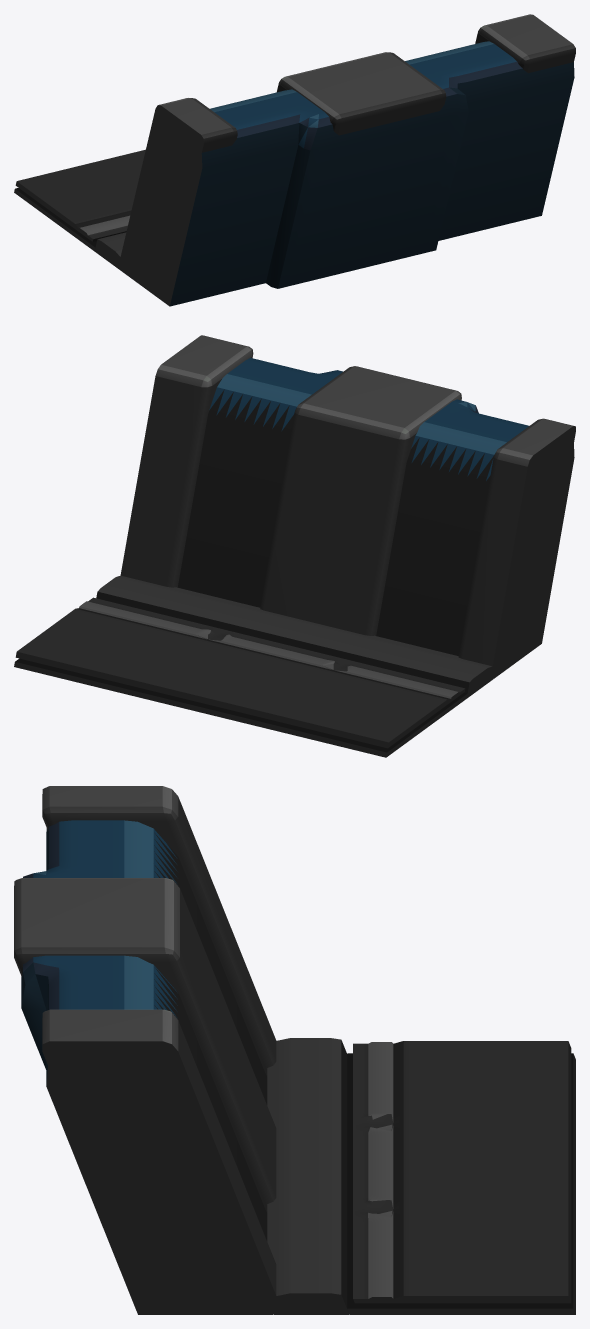
Rendered from fleet_walker_122.glb.
3 views of the same model, one above another, from view 1: azimuth 30°, elevation 25°; view 2: azimuth 150°, elevation 25°; view 3: azimuth 270°, elevation 25° (orthographic). The views are drawn at different scales.
Visible parts, largest first — view 1: fleet_walker_122; view 2: fleet_walker_122; view 3: fleet_walker_122.
Part boxes in pixels (<box>): fleet_walker_122: <box>14,14,575,306</box>; fleet_walker_122: <box>14,335,575,757</box>; fleet_walker_122: <box>14,786,575,1314</box>.
Bounding box in the file's own units: 24 × 12 × 22.33.
